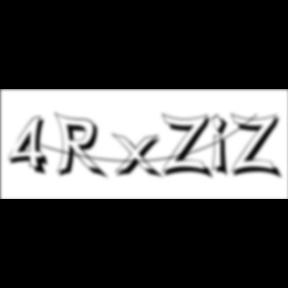4: (8, 115, 55, 179)
R: (54, 112, 111, 182)
Z: (231, 112, 286, 181), (162, 112, 216, 181)
i: (212, 112, 236, 180)
x: (112, 132, 168, 181)
